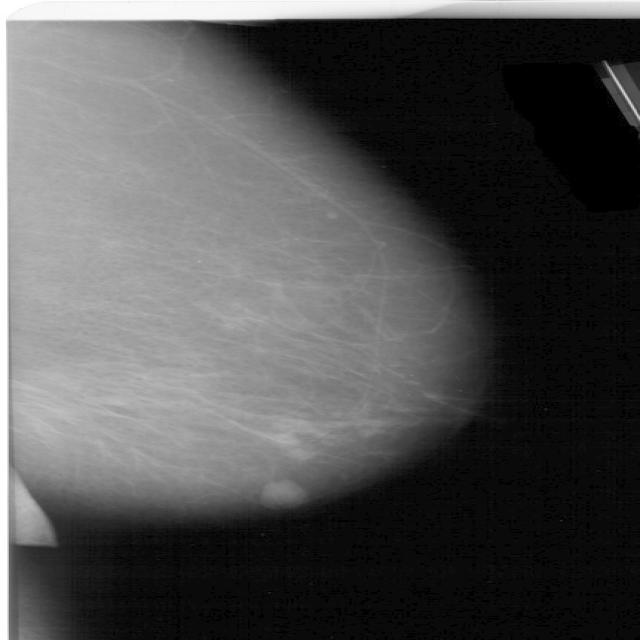tumour: (260, 480, 307, 510)
